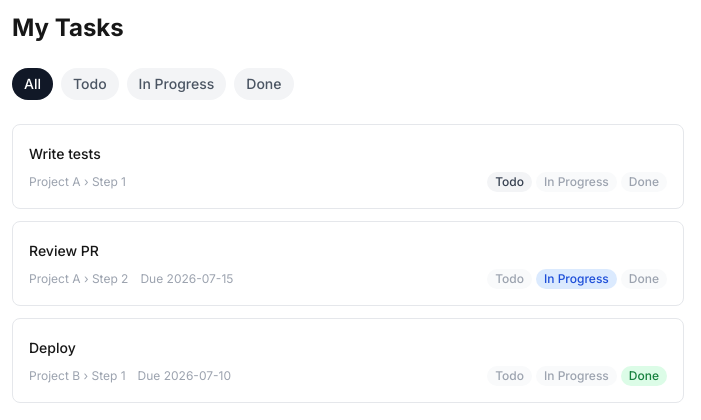
Scenario: MyTaskList › filters to only todo tasks when Todo tab is clicked
What coordinates should you click on to do the following:
click the button with test id "filter-todo"
I would click on:
 (90, 84)
Its box is [61, 68, 119, 100].
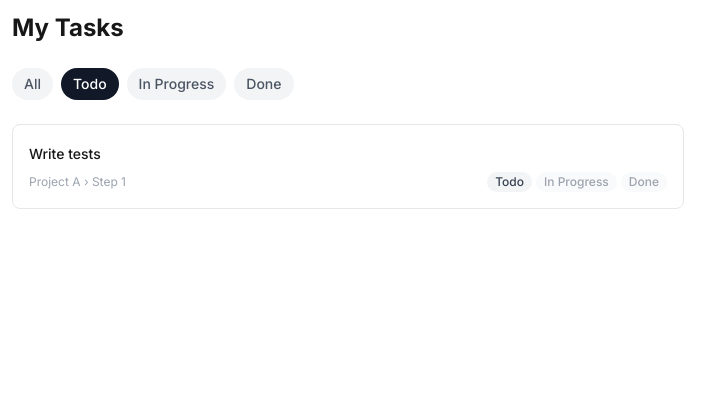
Check: the button "Write tests" is shown, box [29, 144, 667, 164]
Check: the button "Review PR" is gone
Check: the button "Deploy" is gone
